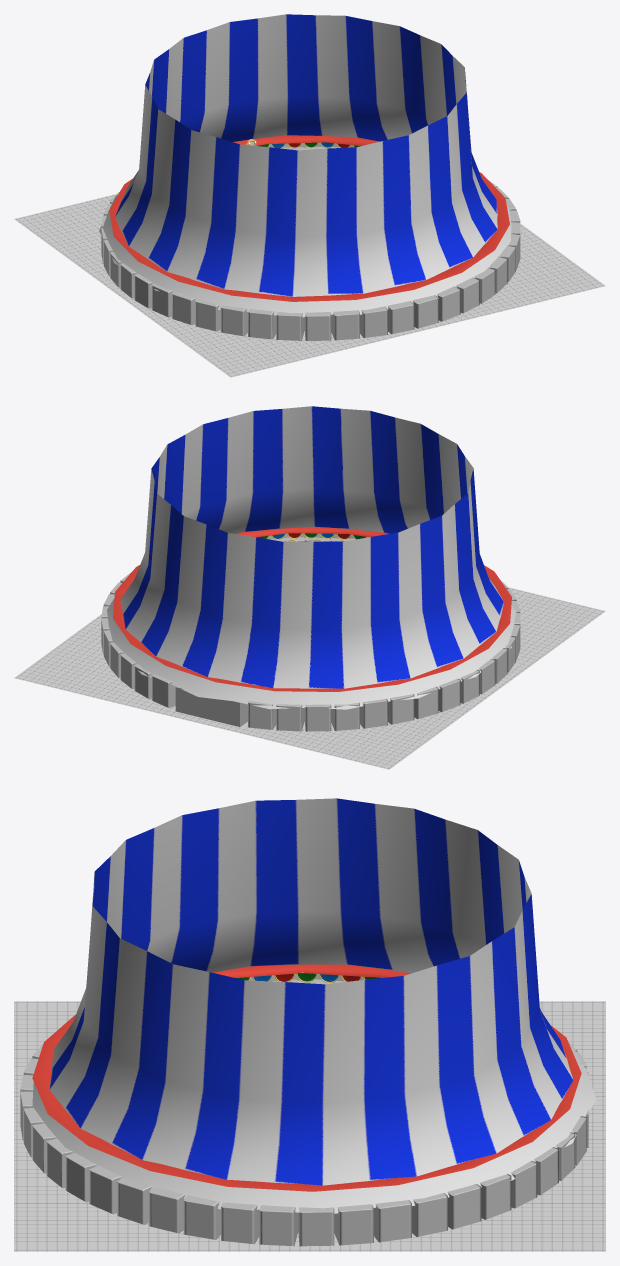
Rendered from Circus.fbx.
3 renders of one model, top to bottom at view 1: azimuth 30°, elevation 25°; view 2: azimuth 150°, elevation 25°; view 3: azimuth 270°, elevation 25°, orthographic. The views are drawn at different scales.
Parts seen in each view (by area): view 1: Circus, Floor, Plane_Room_Dupli (×15); view 2: Circus, Floor, Plane_Room_Dupli (×10), GuardArea1; view 3: Circus, Floor, Plane_Room_Dupli (×18).
Boxes of the visible parts, left/top/right/bottom form: Circus: left=99, top=14, right=511, bottom=317; Floor: left=14, top=194, right=605, bottom=377; Plane_Room_Dupli (×15): left=134, top=267, right=495, bottom=340; Circus: left=106, top=406, right=516, bottom=709; Floor: left=14, top=587, right=605, bottom=769; Plane_Room_Dupli (×10): left=151, top=669, right=479, bottom=731; GuardArea1: left=175, top=686, right=247, bottom=726; Circus: left=31, top=798, right=596, bottom=1213; Floor: left=14, top=1001, right=605, bottom=1251; Plane_Room_Dupli (×18): left=32, top=1123, right=575, bottom=1246.
Bounding box in the file's own units: 5290 × 2325 × 5290.
Materials: 8 (8 with a texture image).
